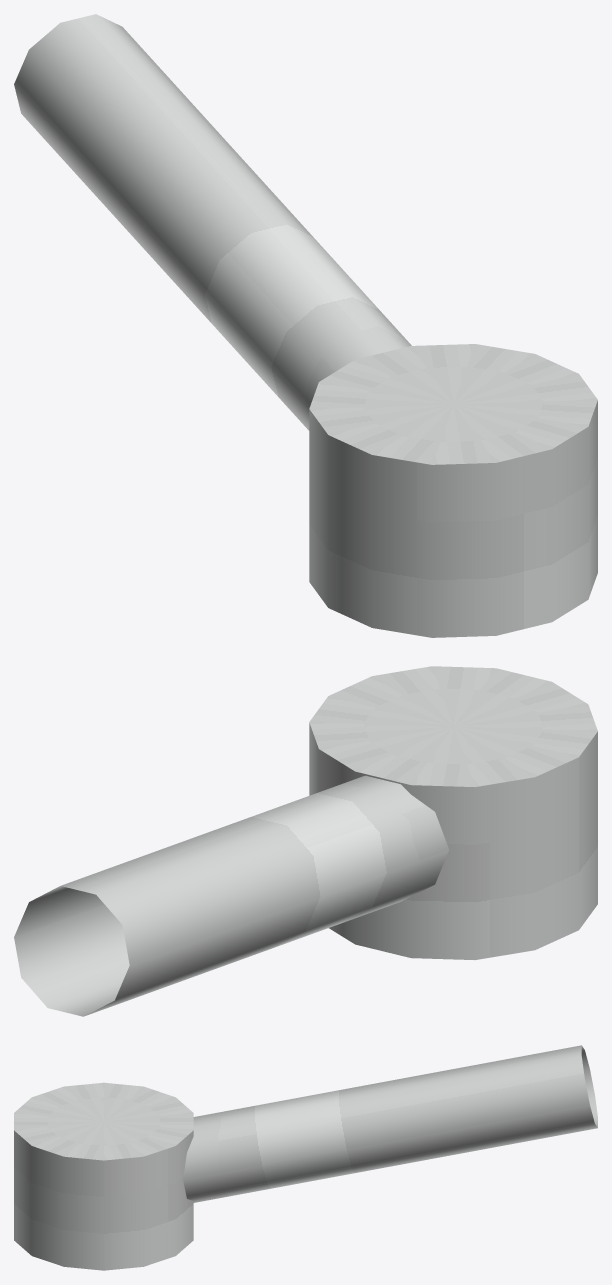
Rendered from trusssignalarm_level6_c1_thin.obj.
3 views of the same model, one above another, from view 1: azimuth 30°, elevation 25°; view 2: azimuth 150°, elevation 25°; view 3: azimuth 270°, elevation 25° (orthographic). The views are drawn at different scales.
Visible parts, largest first — view 1: trusssignalarm_level6_c1_thin; view 2: trusssignalarm_level6_c1_thin; view 3: trusssignalarm_level6_c1_thin.
Part boxes in pixels (left/top/right/bottom): trusssignalarm_level6_c1_thin: left=14, top=14, right=597, bottom=637; trusssignalarm_level6_c1_thin: left=14, top=666, right=597, bottom=1016; trusssignalarm_level6_c1_thin: left=14, top=1045, right=597, bottom=1270.
Size of the model in its own units: 0.5688 by 0.6161 by 1.8.
